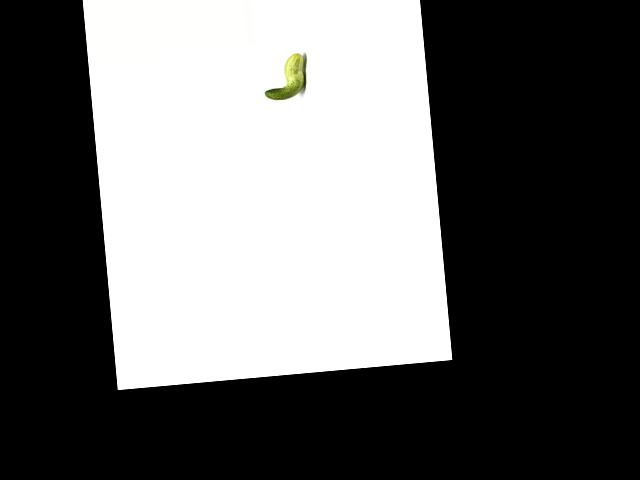cucumber: (261, 52, 307, 101)
